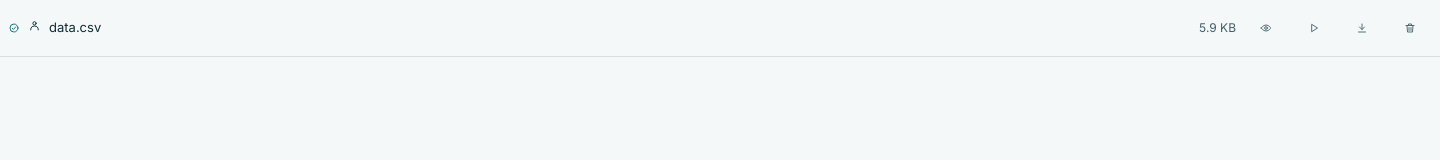
it: BlobRow preview › loads inline preview through the bounded preview helper
Click the button named "preview data.csv" at (1266, 28), box [1244,6,1288,50]
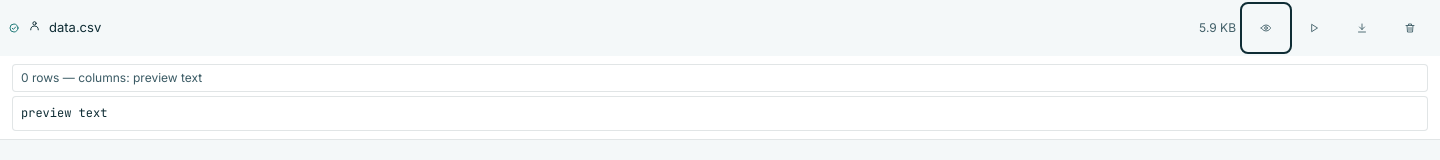
Check: the text "preview text" is shown, box [12,96,1428,131]
